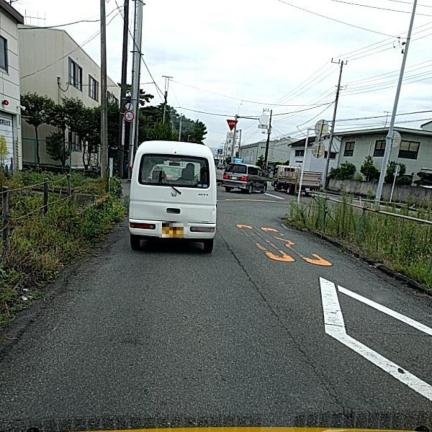Road: (0, 188, 431, 430)
